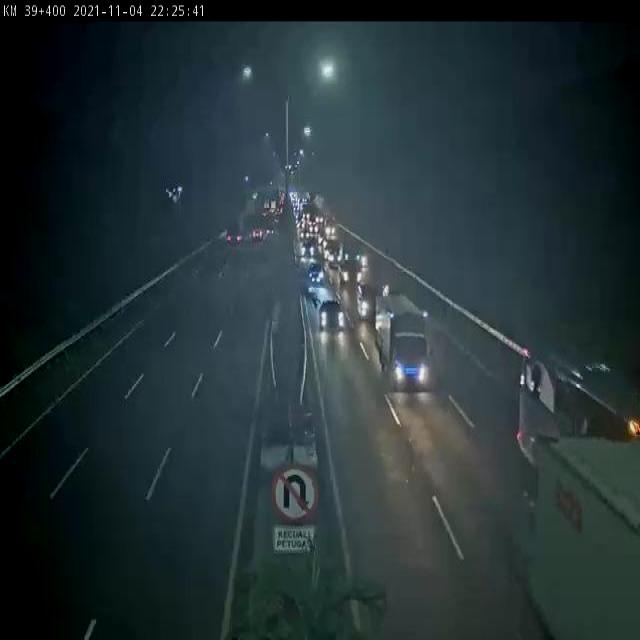Car: (319, 300, 346, 331)
Truck: (372, 291, 430, 384)
